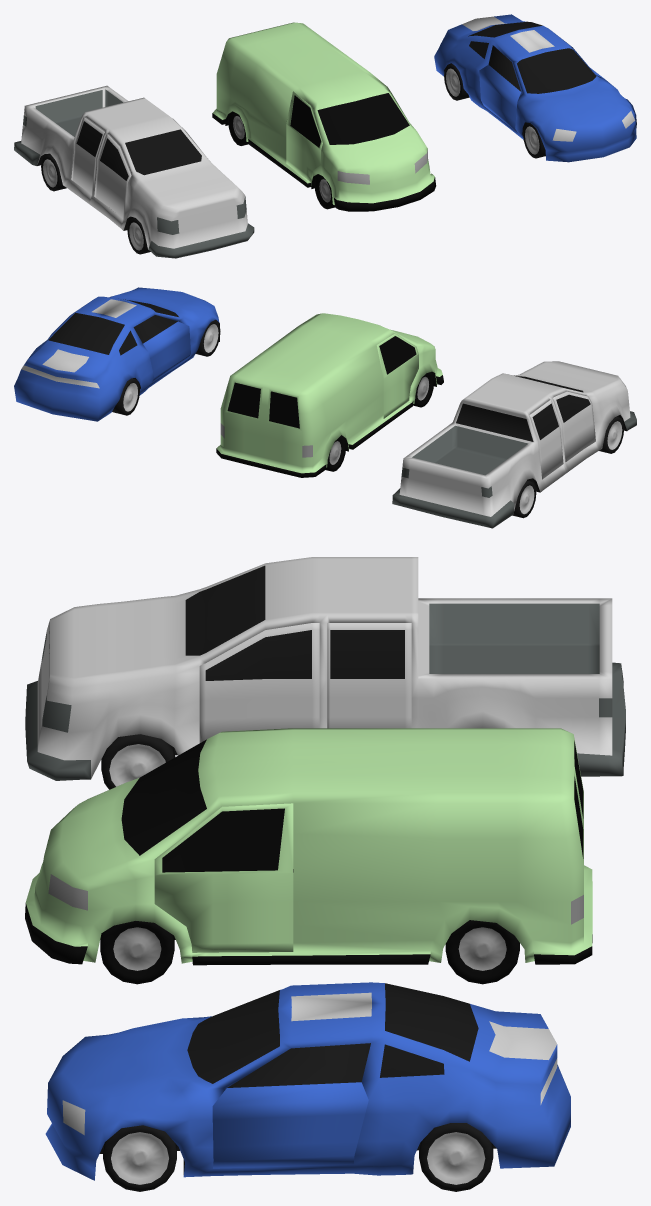
The model's file is PACK_CAR_2023.fbx.
The picture shows the model from 3 angles, top to bottom: view 1: azimuth 30°, elevation 25°; view 2: azimuth 150°, elevation 25°; view 3: azimuth 270°, elevation 25°; orthographic projection. The views are drawn at different scales.
Parts seen in each view (by area): view 1: CARRO_002, CARRO_003, CARRO_001, PORTAS.005, PORTAS.004, PORTAS, PORTAS.003, RODAS, RODAS.003, RODAS.008, RODAS.002, RODAS.006 (+1 smaller); view 2: CARRO_002, CARRO_003, CARRO_001, PORTAS.005, PORTAS.004, PORTAS, PORTAS.003, RODAS.003, RODAS, RODAS.002, RODAS.008, RODAS.006 (+1 smaller); view 3: CARRO_002, CARRO_003, CARRO_001, PORTAS.006, PORTAS.007, PORTAS.001, PORTAS.002, RODAS.003, RODAS.007, RODAS.005, RODAS.004, RODAS.001.
Part boxes in pixels (x1,y1,x2,y2): CARRO_002: [212, 22, 436, 211]; CARRO_003: [14, 85, 254, 258]; CARRO_001: [434, 14, 636, 162]; PORTAS.005: [286, 91, 322, 182]; PORTAS.004: [479, 45, 520, 132]; PORTAS: [94, 134, 131, 219]; PORTAS.003: [71, 117, 104, 194]; RODAS: [41, 154, 66, 191]; RODAS.003: [444, 64, 469, 100]; RODAS.008: [523, 122, 545, 158]; RODAS.002: [127, 218, 150, 254]; RODAS.006: [314, 174, 334, 209]; CARRO_002: [216, 313, 443, 477]; CARRO_003: [392, 361, 636, 528]; CARRO_001: [14, 287, 219, 421]; PORTAS.005: [376, 334, 418, 418]; PORTAS.004: [133, 315, 190, 381]; PORTAS: [553, 391, 595, 461]; PORTAS.003: [529, 399, 563, 479]; RODAS.003: [112, 378, 139, 415]; RODAS: [512, 480, 536, 518]; RODAS.002: [599, 416, 624, 453]; RODAS.008: [195, 320, 220, 356]; RODAS.006: [413, 372, 433, 407]; CARRO_002: [25, 728, 592, 965]; CARRO_003: [25, 557, 625, 780]; CARRO_001: [45, 982, 570, 1180]; PORTAS.006: [154, 803, 293, 952]; PORTAS.007: [212, 1043, 370, 1168]; PORTAS.001: [199, 623, 319, 742]; PORTAS.002: [327, 623, 411, 728]; RODAS.003: [419, 1123, 493, 1191]; RODAS.007: [103, 1125, 176, 1191]; RODAS.005: [100, 921, 174, 984]; RODAS.004: [445, 920, 519, 984]; RODAS.001: [101, 734, 175, 789].
Bounding box in the file's own units: 860 × 149 × 452.
